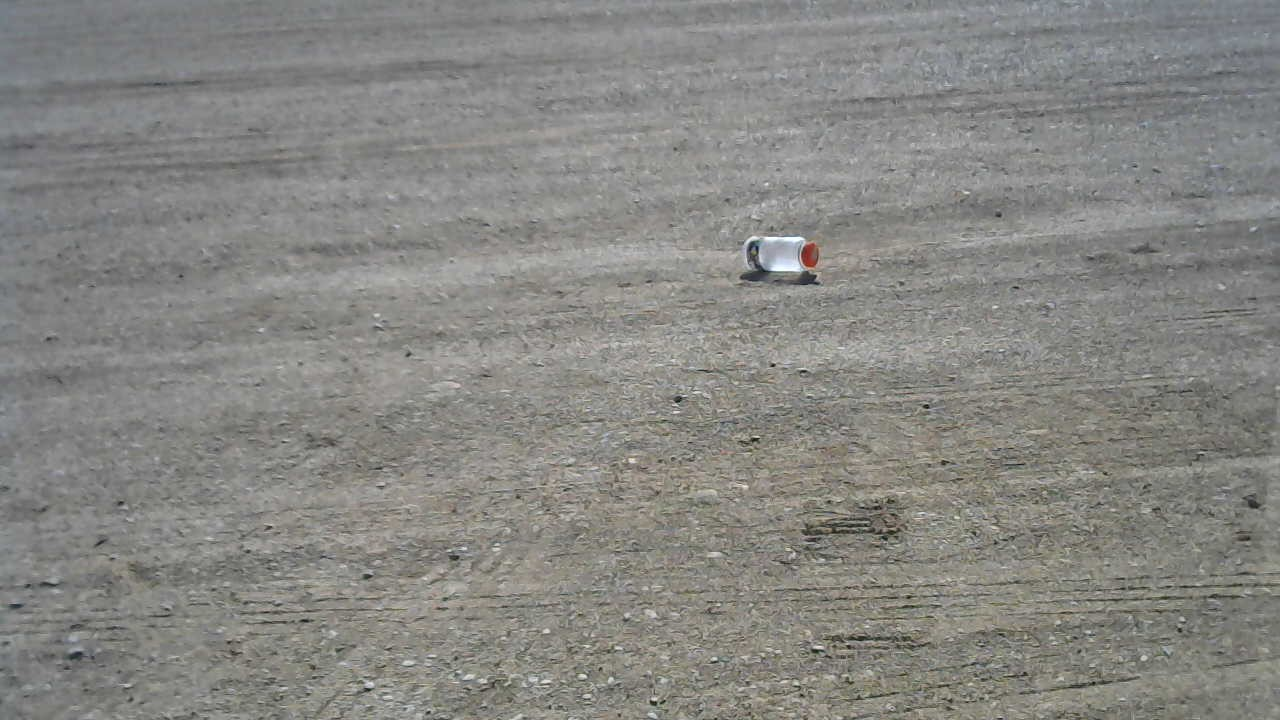bottle: (739, 231, 823, 276)
